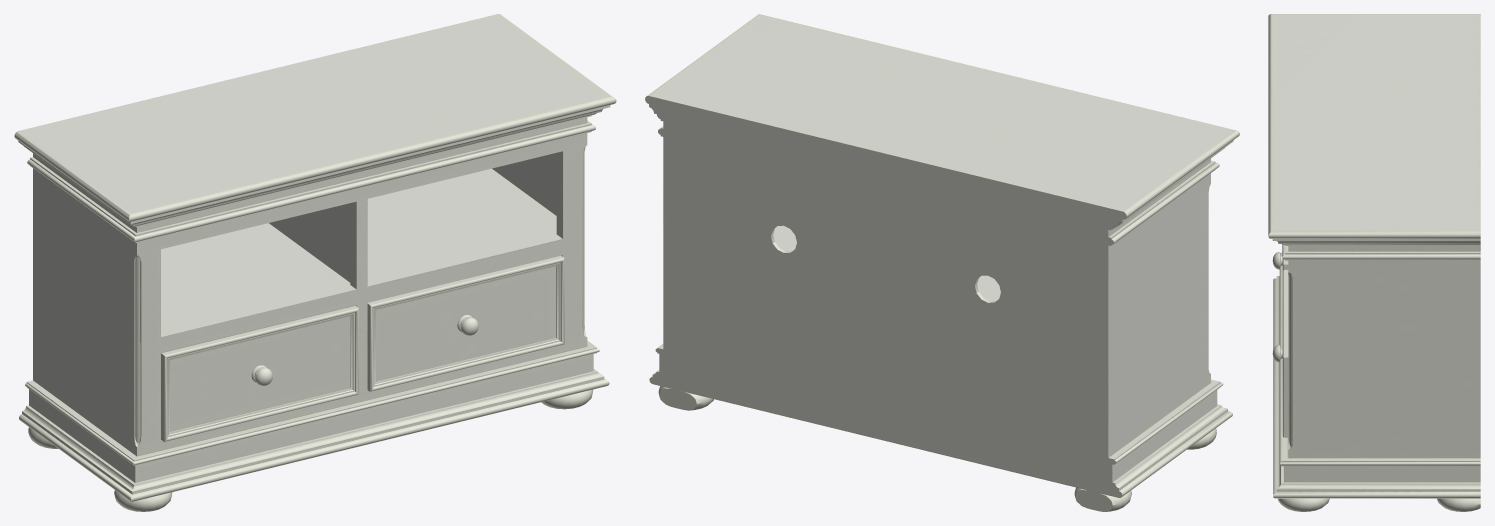
The model's file is example165.glb.
The picture shows the model from 3 angles, left to right: view 1: azimuth 30°, elevation 25°; view 2: azimuth 150°, elevation 25°; view 3: azimuth 270°, elevation 25°; orthographic projection. The views are drawn at different scales.
Visible parts, largest first — view 1: Buffer Layer; view 2: Buffer Layer; view 3: Buffer Layer.
Boxes of the visible parts, bbox=[...] form: Buffer Layer: bbox=[14, 14, 616, 511]; Buffer Layer: bbox=[645, 14, 1239, 511]; Buffer Layer: bbox=[1268, 14, 1480, 511].
Size of the model in its own units: 1.1 by 0.6667 by 0.4478.
2 materials, 1 textured.
